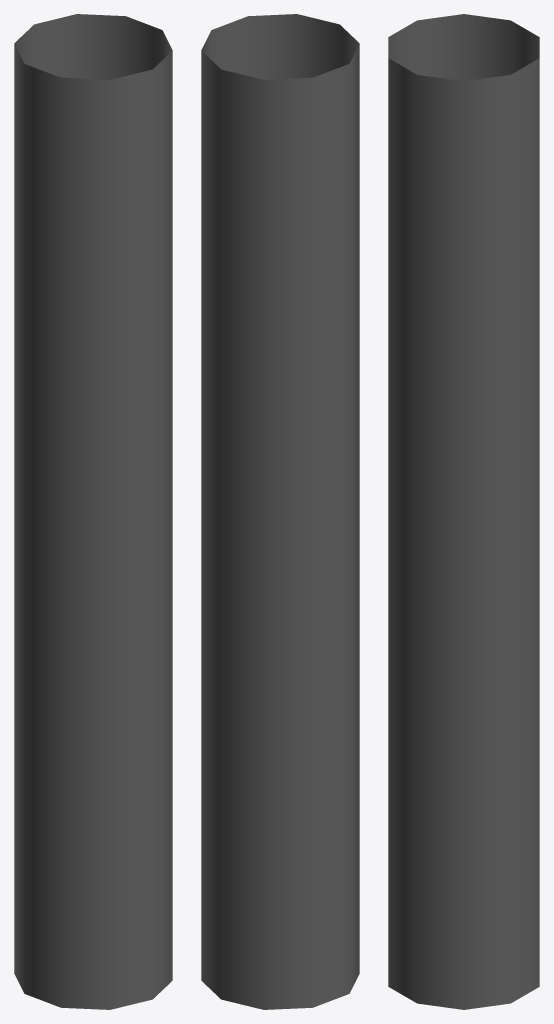
Rendered from rura4.fbx.
The picture shows the model from 3 angles, left to right: view 1: azimuth 30°, elevation 25°; view 2: azimuth 150°, elevation 25°; view 3: azimuth 270°, elevation 25°; orthographic projection.
Visible parts, largest first — view 1: BézierCurve.003; view 2: BézierCurve.003; view 3: BézierCurve.003.
Boxes of the visible parts, left/top/right/bottom form: BézierCurve.003: left=14, top=14, right=172, bottom=1009; BézierCurve.003: left=201, top=14, right=359, bottom=1009; BézierCurve.003: left=388, top=14, right=539, bottom=1009.
Size of the model in its own units: 20.92 by 22 by 142.
